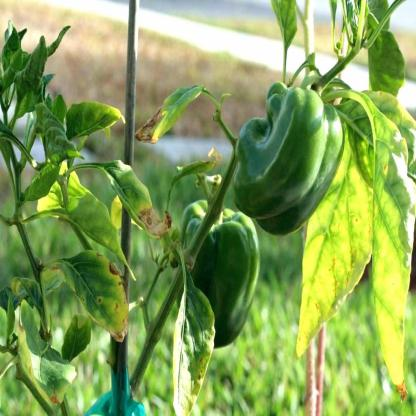bell pepper leaf spot: (60, 249, 130, 347), (171, 273, 217, 415), (100, 160, 176, 242), (129, 83, 206, 150)
